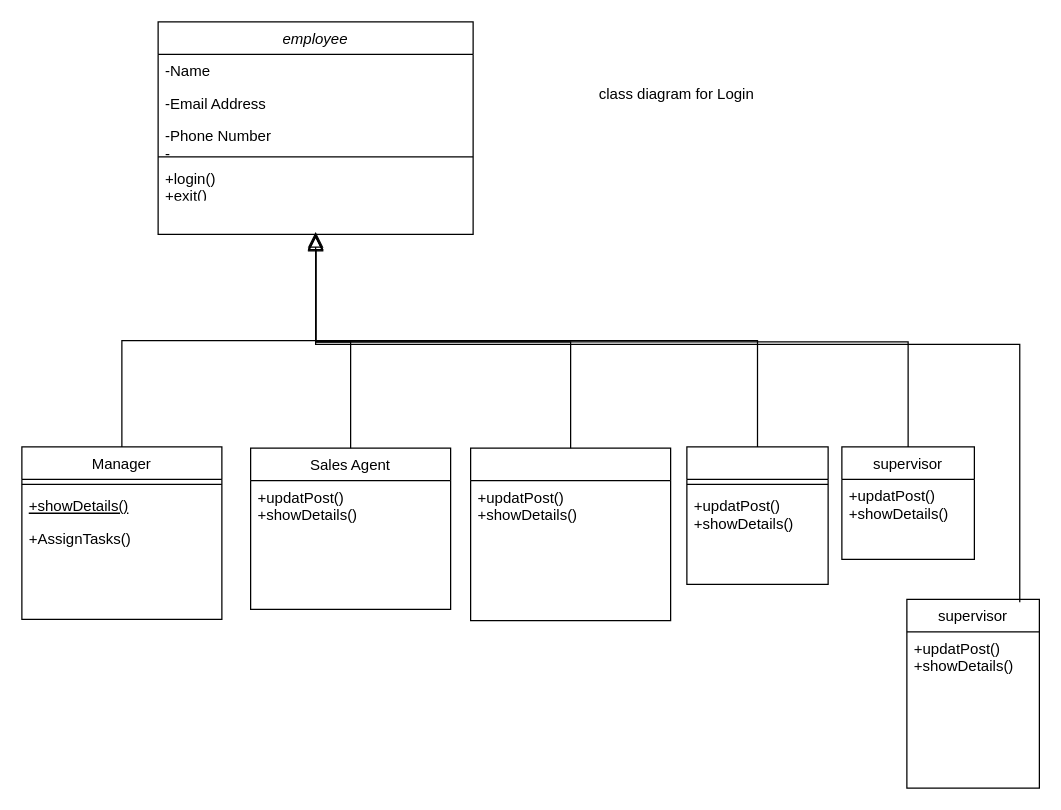
The diagram is 1061 pixels wide and 810 high, and some of its shapes have lost their labels. The shapes that lost their labels are listed below. From the top down, each one's box as (x1, y1, x2, y2) in pixels, then its label:
(469, 447, 671, 621): Insurance
(686, 446, 828, 584): team leader
